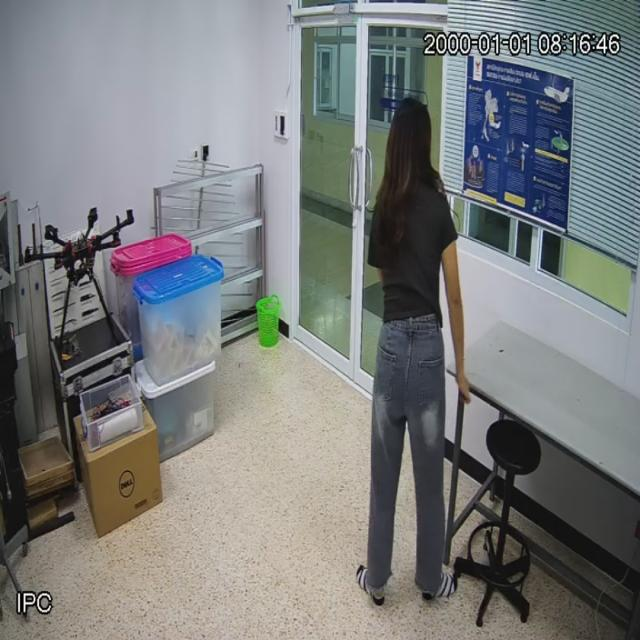normal: (356, 93, 472, 612)
